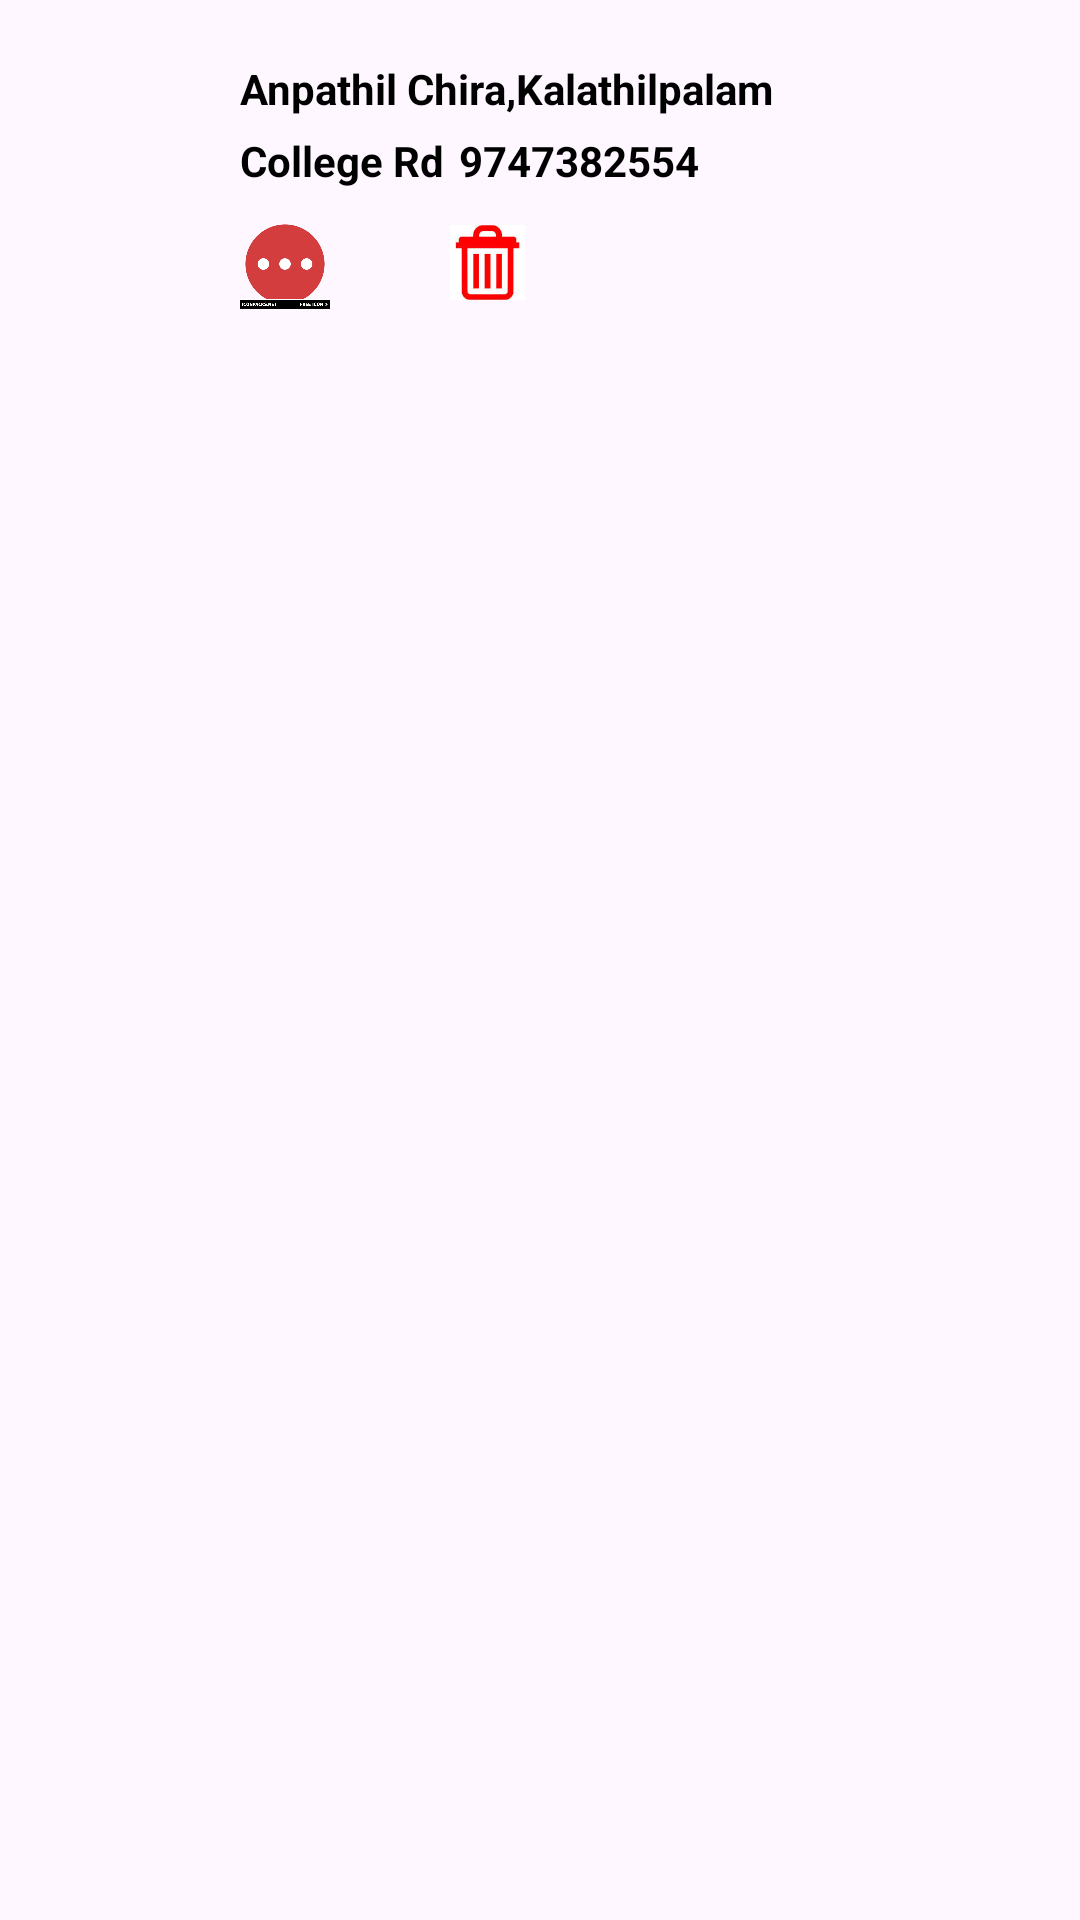

Icons on this 1080px x 1920px Android screen, each with the point to tap as (x,y):
threedots: (285,266)
